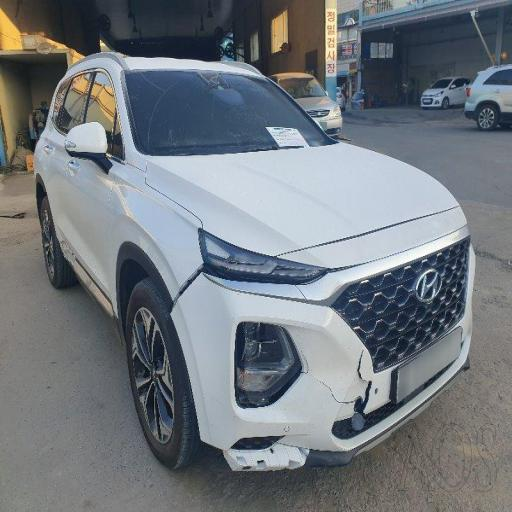broken: (301, 331, 418, 452), (211, 396, 323, 510)
